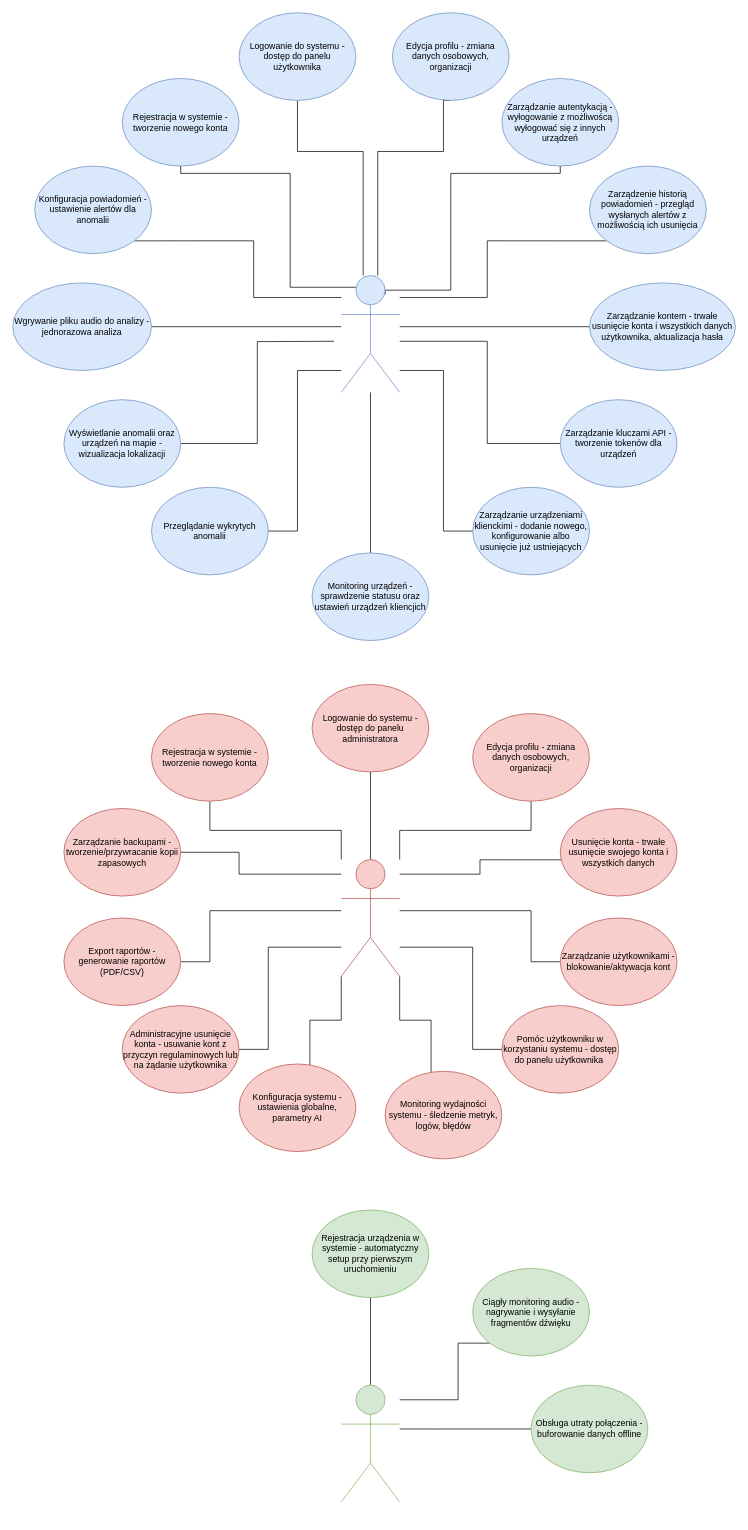
This 748x1530 diagram has some shape labels left out. Each missing label, with the centre of its shape:
"Administrator" belongs at pixel 370 917.
"Urządzenie klienckie" belongs at pixel 370 1443.
"Użytkownik" belongs at pixel 370 333.
